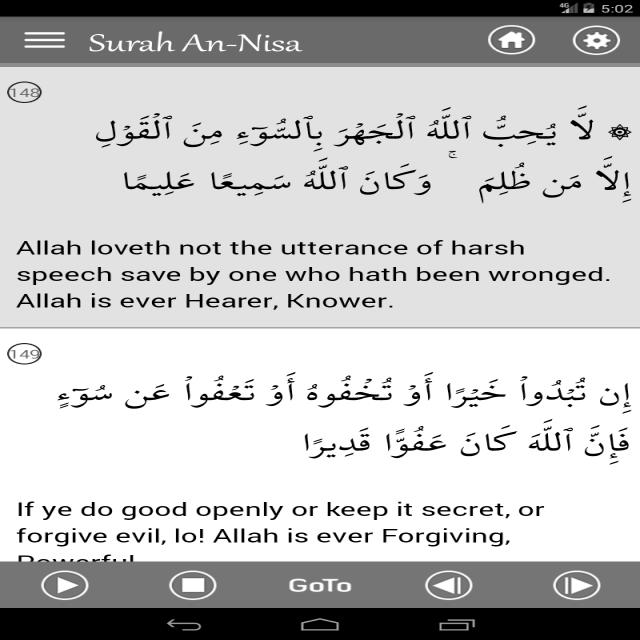ImageButton: (30, 566, 105, 602), (161, 564, 227, 604), (562, 18, 621, 62), (542, 565, 612, 601), (419, 566, 483, 604), (480, 18, 540, 54), (12, 25, 74, 53)
TextView: (84, 96, 631, 205), (11, 234, 624, 320), (45, 375, 627, 463), (13, 494, 558, 546), (275, 570, 371, 596)
